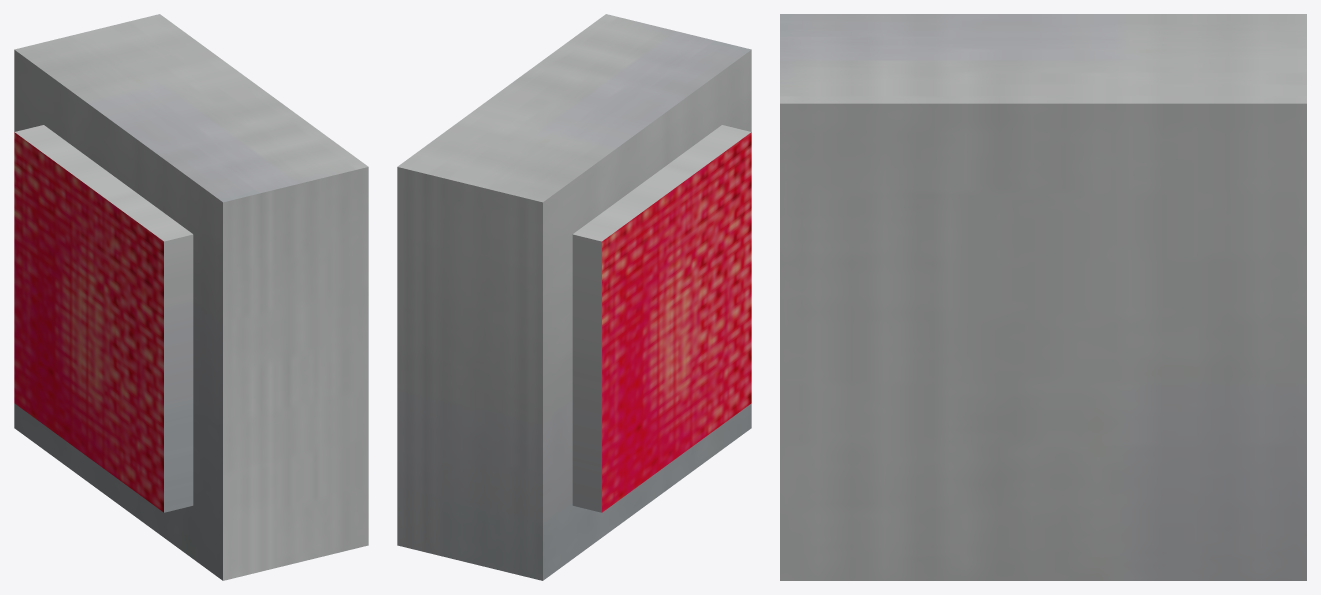
The model's file is button.fbx.
3 views of the same model, side by side, from view 1: azimuth 30°, elevation 25°; view 2: azimuth 150°, elevation 25°; view 3: azimuth 270°, elevation 25° (orthographic). The views are drawn at different scales.
Parts seen in each view (by area): view 1: Cube.002; view 2: Cube.002; view 3: Cube.002.
Part boxes in pixels (<box>): Cube.002: <box>14,14,368,580</box>; Cube.002: <box>397,14,751,580</box>; Cube.002: <box>780,14,1306,580</box>.
Bounding box in the file's own units: 0.968 × 2 × 2.
